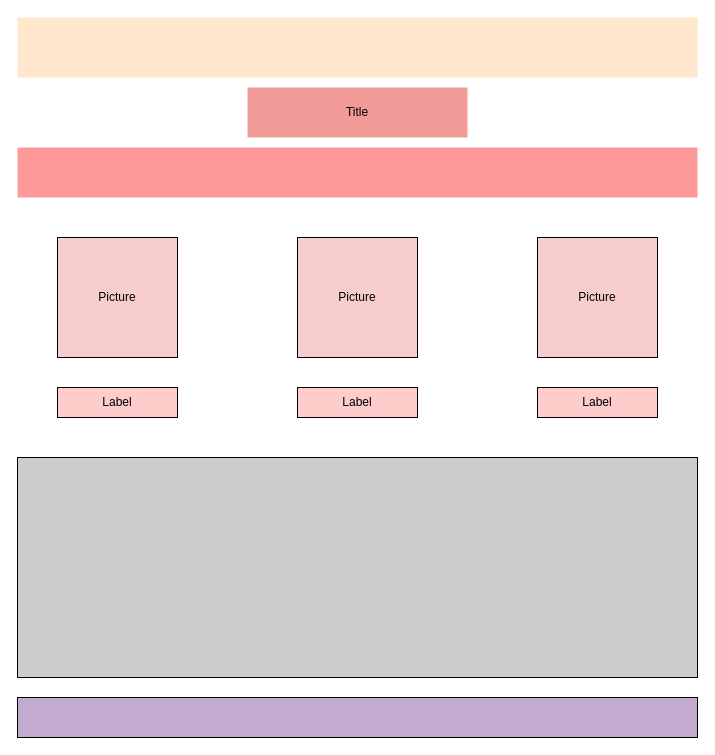
The diagram is 715 pixels wide and 755 high, and some of its shapes have lost their labels. The centre of each missing label's shape, as x and y in pixels:
Footer: pixel 357 717
Header: pixel 357 47
Navigation Bar: pixel 357 172
Text: pixel 357 567
